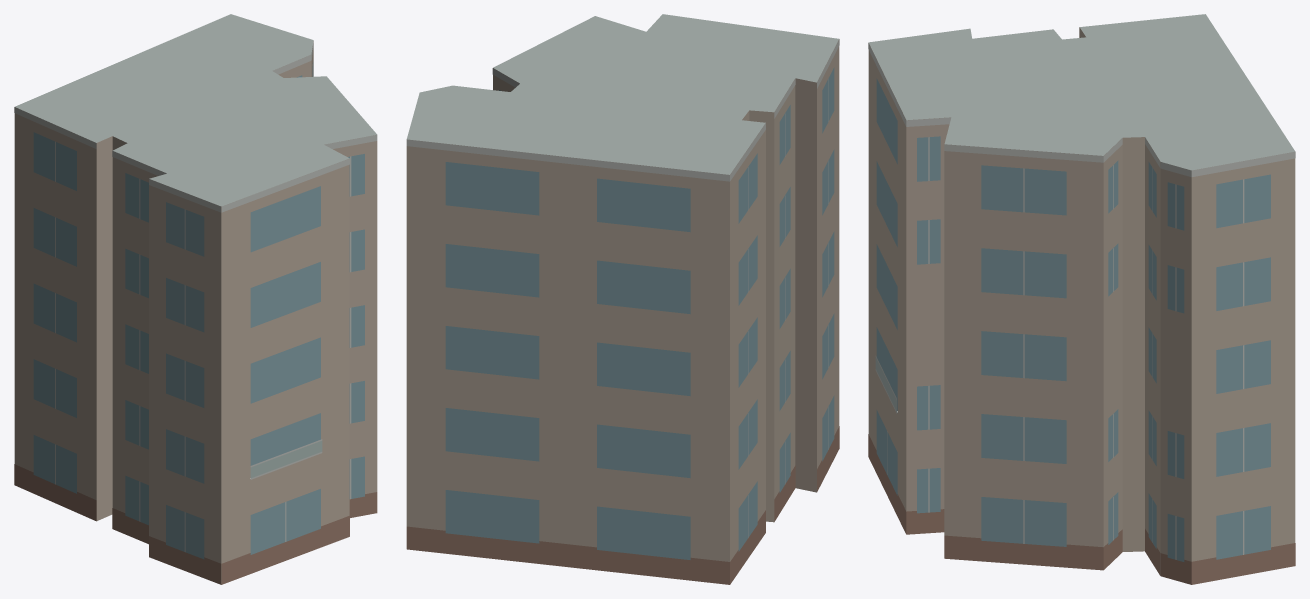
Rendered from survey-upis-32606286.glb.
The picture shows the model from 3 angles, left to right: view 1: azimuth 30°, elevation 25°; view 2: azimuth 150°, elevation 25°; view 3: azimuth 270°, elevation 25°; orthographic projection. The views are drawn at different scales.
Parts seen in each view (by area): view 1: survey-upis-32606286.tmp; view 2: survey-upis-32606286.tmp; view 3: survey-upis-32606286.tmp.
Part boxes in pixels (<box>): survey-upis-32606286.tmp: <box>14,14,377,584</box>; survey-upis-32606286.tmp: <box>406,14,839,584</box>; survey-upis-32606286.tmp: <box>868,14,1295,584</box>.
Size of the model in its own units: 12.08 by 14.9 by 13.93.
